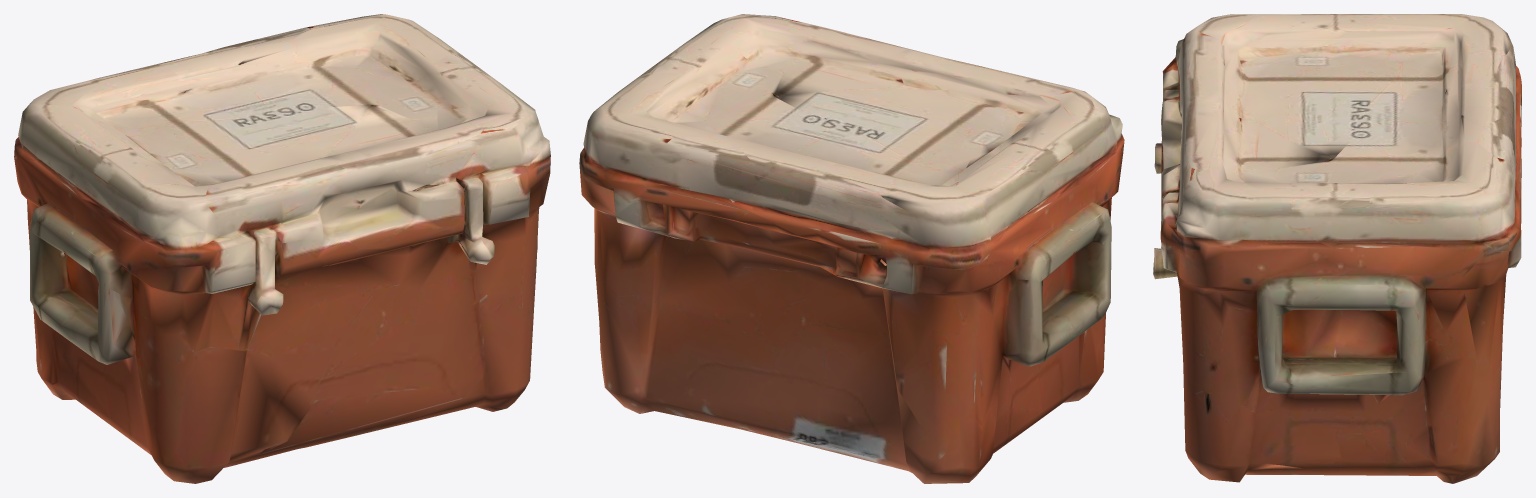
File: cooler.glb
3 views of the same model, side by side, from view 1: azimuth 30°, elevation 25°; view 2: azimuth 150°, elevation 25°; view 3: azimuth 270°, elevation 25° (orthographic).
Size of the model in its own units: 2 by 1.25 by 1.43.
Materials: 1 (1 with a texture image).
